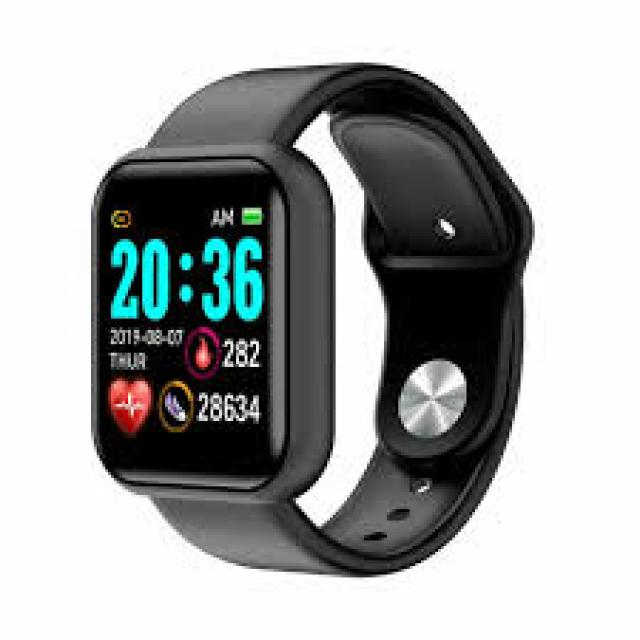objects: (94, 65, 529, 581)
